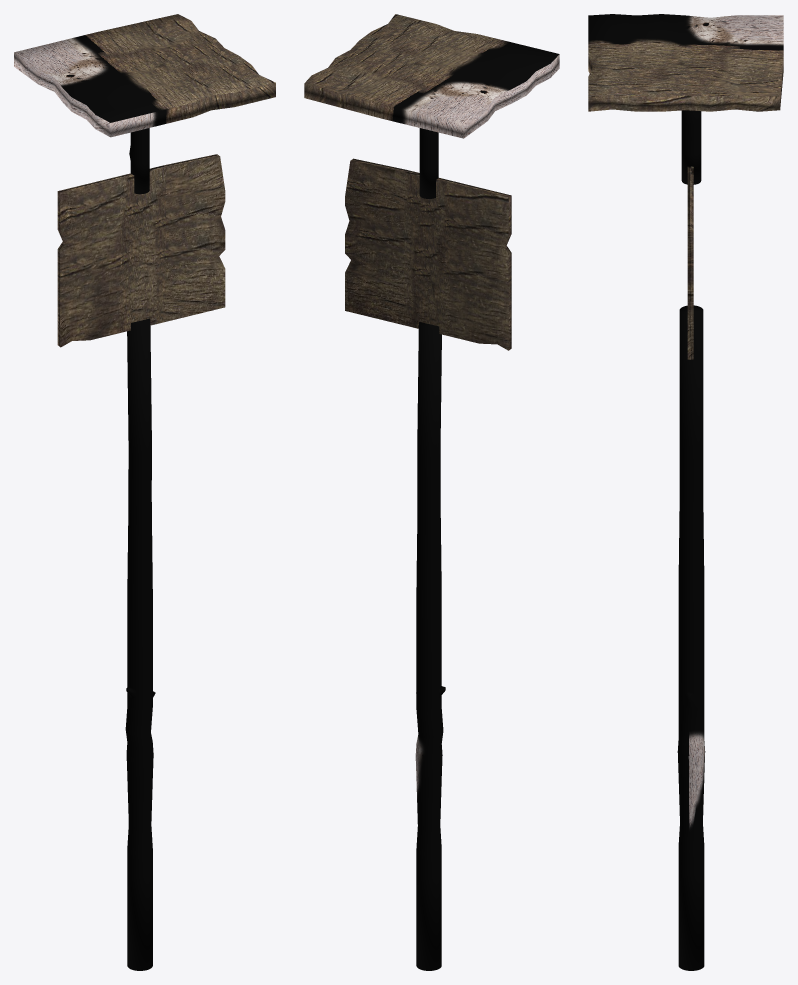
The model's file is Platform_With_Board.fbx.
The picture shows the model from 3 angles, left to right: view 1: azimuth 30°, elevation 25°; view 2: azimuth 150°, elevation 25°; view 3: azimuth 270°, elevation 25°; orthographic projection.
Parts seen in each view (by area): view 1: Cylinder.001; view 2: Cylinder.001; view 3: Cylinder.001.
Boxes of the visible parts, box(x1,y1,x2,y2) form: Cylinder.001: box(14, 14, 275, 970); Cylinder.001: box(304, 14, 559, 970); Cylinder.001: box(588, 14, 783, 970).
Size of the model in its own units: 60.91 by 313 by 60.51.
